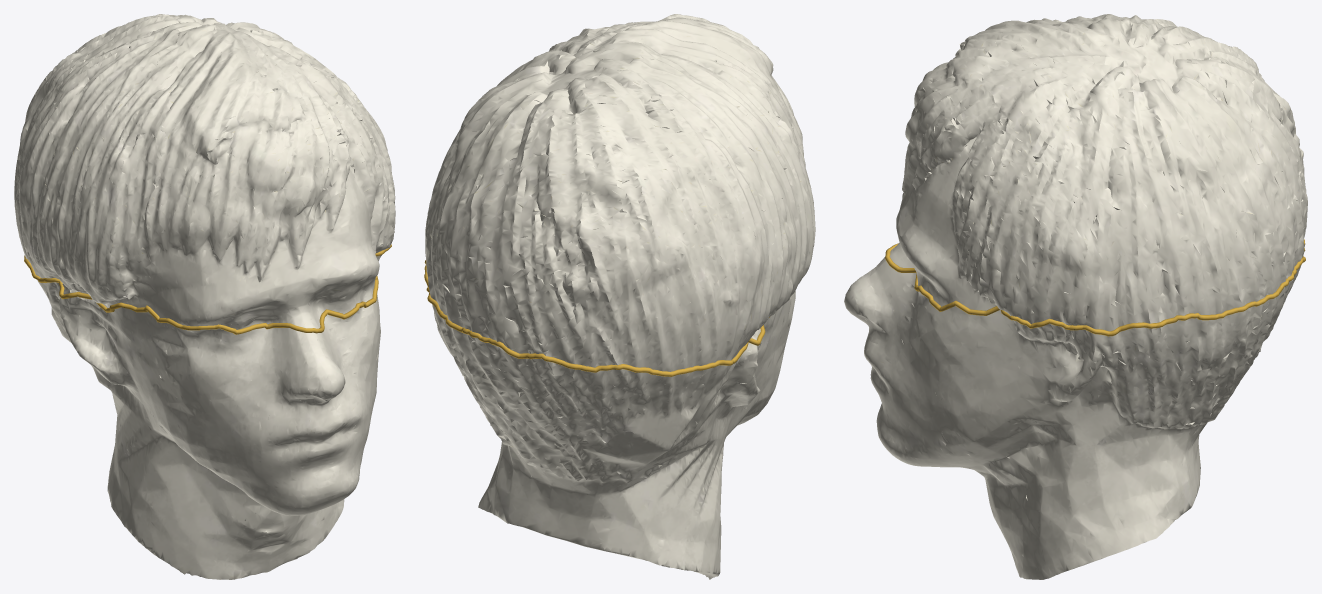
File: busto.glb
3 views of the same model, side by side, from view 1: azimuth 30°, elevation 25°; view 2: azimuth 150°, elevation 25°; view 3: azimuth 270°, elevation 25° (orthographic). The views are drawn at different scales.
Parts seen in each view (by area): view 1: arriba, exterior.002, costura; view 2: arriba, exterior.002, costura; view 3: arriba, exterior.002, costura.
Boxes of the visible parts, <box> form: arriba: <box>14,14,395,329</box>; exterior.002: <box>37,255,381,579</box>; costura: <box>24,244,391,334</box>; arriba: <box>425,14,815,371</box>; exterior.002: <box>432,291,795,579</box>; costura: <box>424,260,769,376</box>; arriba: <box>889,14,1307,331</box>; exterior.002: <box>844,257,1301,579</box>; costura: <box>885,239,1305,336</box>.
Size of the model in its own units: 1.29 by 2 by 1.59.
Materials: 7 (5 with a texture image).
